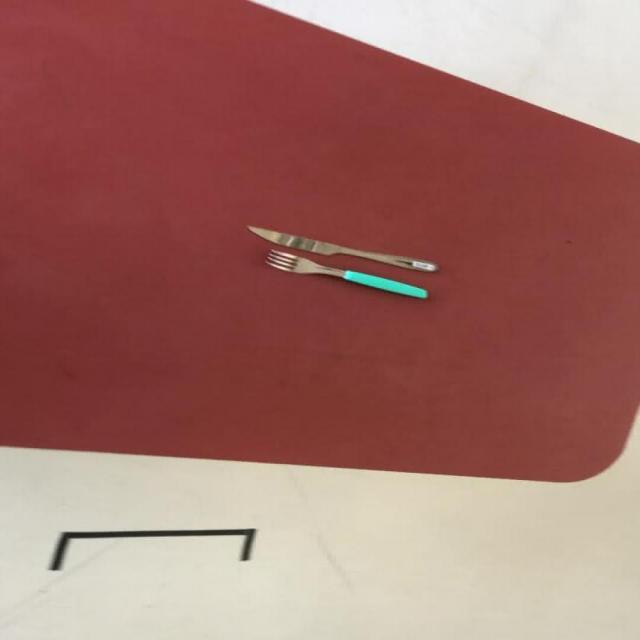Fork: (263, 248, 428, 299)
Knife: (244, 225, 439, 272)
